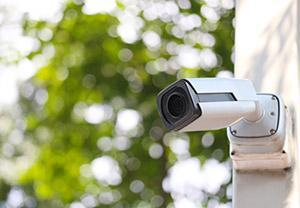CCTV: (152, 59, 288, 153)
